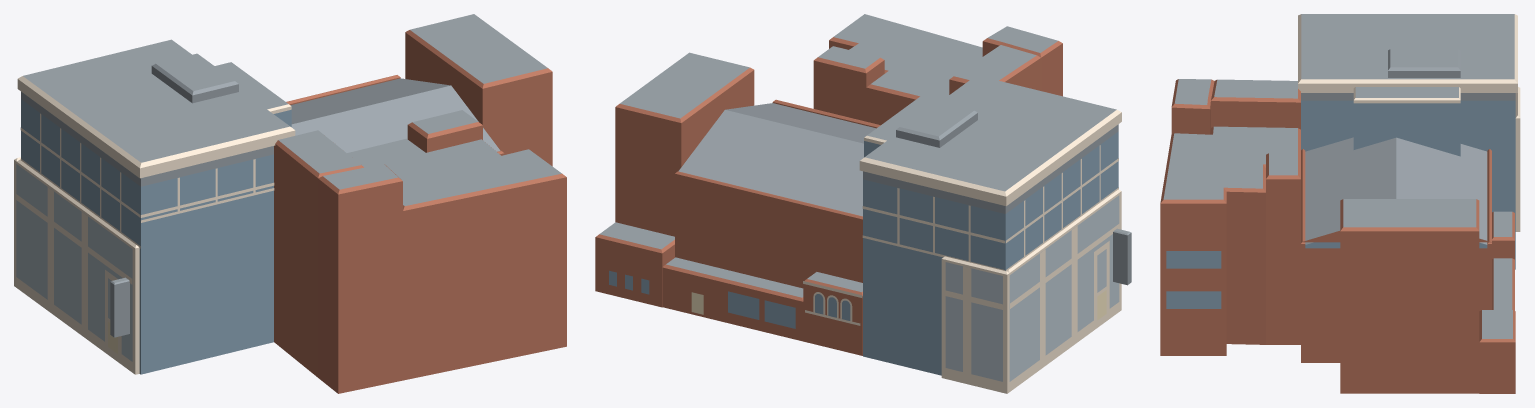
The model's file is carolina-theatre.glb.
3 views of the same model, side by side, from view 1: azimuth 30°, elevation 25°; view 2: azimuth 150°, elevation 25°; view 3: azimuth 270°, elevation 25° (orthographic). The views are drawn at different scales.
Parts seen in each view (by area): view 1: Carolina Theatre; view 2: Carolina Theatre; view 3: Carolina Theatre.
Boxes of the visible parts, x1,y1,x2,y2 form: Carolina Theatre: (14, 14, 566, 393); Carolina Theatre: (595, 14, 1131, 393); Carolina Theatre: (1160, 14, 1520, 393).
Size of the model in its own units: 63.5 by 29.56 by 48.46.
